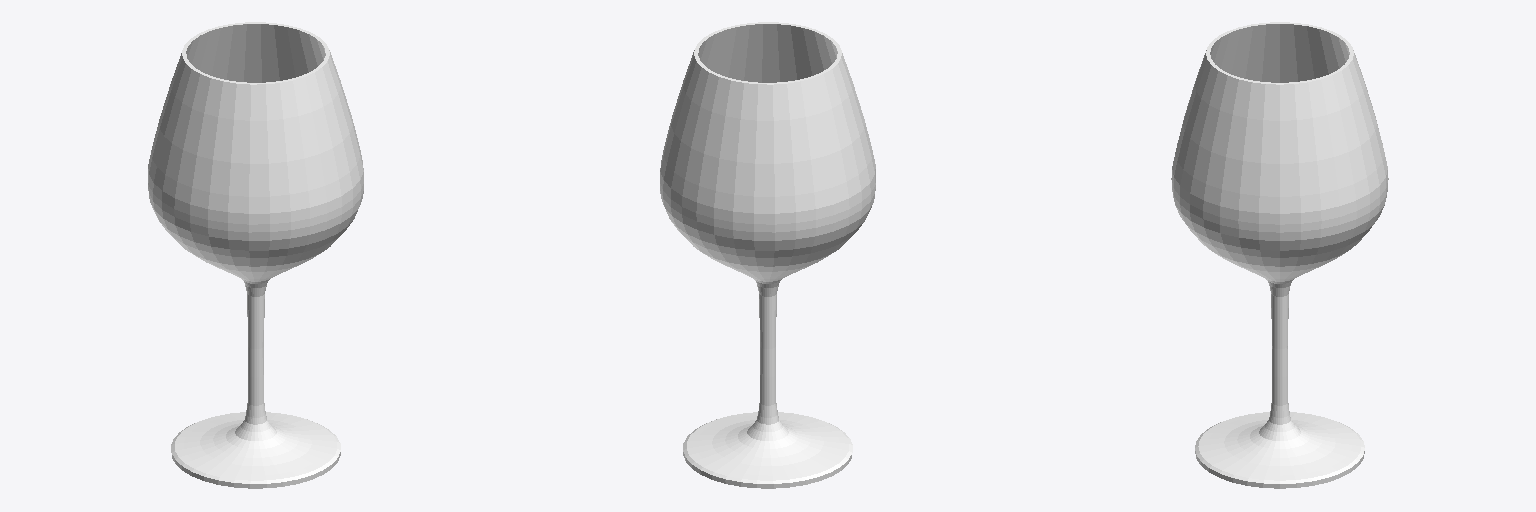
The model's file is bicchiere.obj.
The picture shows the model from 3 angles: view 1: azimuth 30°, elevation 25°; view 2: azimuth 150°, elevation 25°; view 3: azimuth 270°, elevation 25°; orthographic projection.
Parts seen in each view (by area): view 1: Lathe.4; view 2: Lathe.4; view 3: Lathe.4.
Boxes of the visible parts, box(x1,y1,x2,y2) form: Lathe.4: box(148, 22, 363, 488); Lathe.4: box(660, 22, 875, 488); Lathe.4: box(1171, 22, 1388, 488).
Bounding box in the file's own units: 17.41 × 35.87 × 17.41.